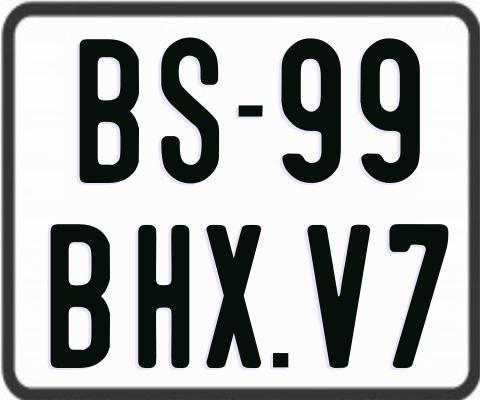7: (389, 224, 448, 372)
9: (360, 38, 420, 188), (280, 36, 340, 184)
B: (80, 38, 144, 184), (51, 221, 113, 368)
H: (136, 224, 192, 369)
S: (160, 35, 218, 184)
V: (307, 222, 370, 366)
X: (206, 223, 261, 367)
